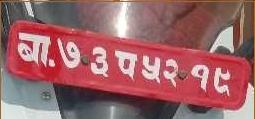1: (187, 62, 212, 92)
2: (163, 54, 182, 89)
3: (87, 45, 111, 79)
5: (141, 52, 162, 85)
7: (55, 35, 83, 71)
9: (212, 63, 233, 97)
ba: (17, 32, 55, 71)
pa: (113, 49, 139, 82)
